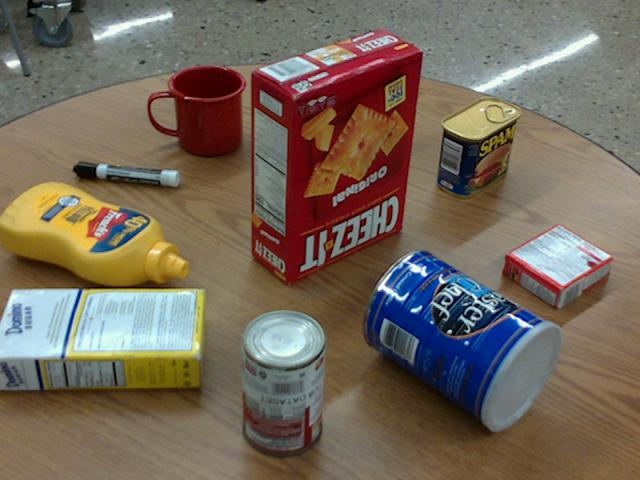cracker_box: (249, 27, 422, 284)
gelatin_box: (502, 222, 612, 307)
large_marker: (74, 162, 179, 186)
master_chef_can: (363, 248, 564, 430)
mug: (148, 66, 245, 157)
mustard_bottle: (0, 181, 188, 286)
potted_meat_can: (437, 97, 520, 198)
sugar_box: (0, 286, 205, 388)
tomato_soup_can: (242, 307, 328, 456)
tuna_fish_can: (318, 79, 388, 152)
